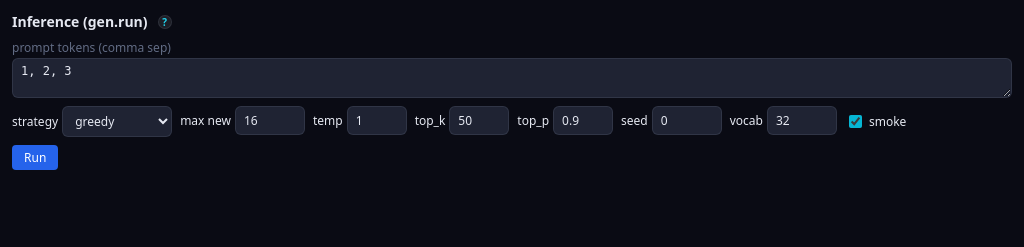
Test: V7 GenerationPanel (gen.run UI) › renders one chip per returned token
Click the button with test id "gen-run" at (35, 158), box [12,145,58,170]
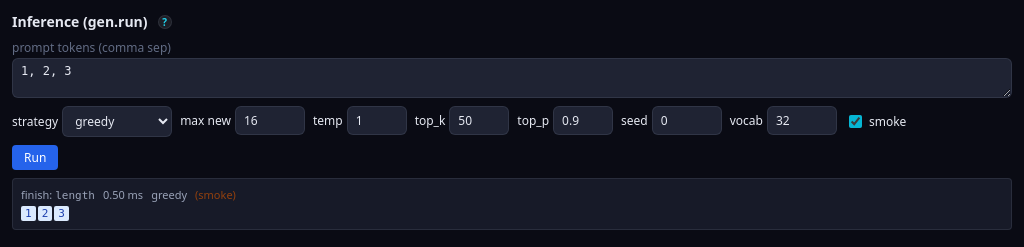
Now the text "1" is shown, box [21,206,36,221]
Now the text with test id "gen-token-0" reads "1", box [25,207,32,220]
Now the text with test id "gen-token-1" reads "2", box [42,207,48,220]
